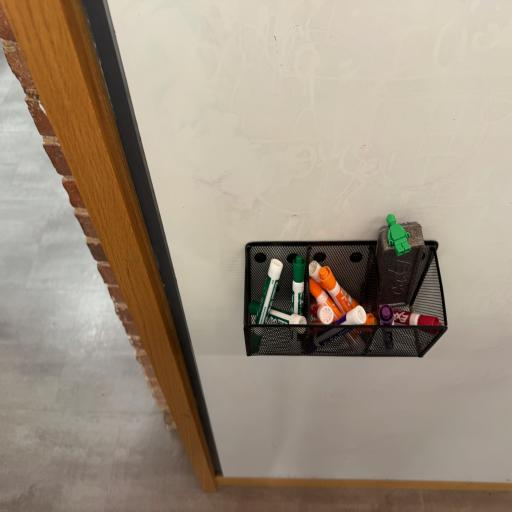Lego-Dude: (387, 214, 411, 256)
